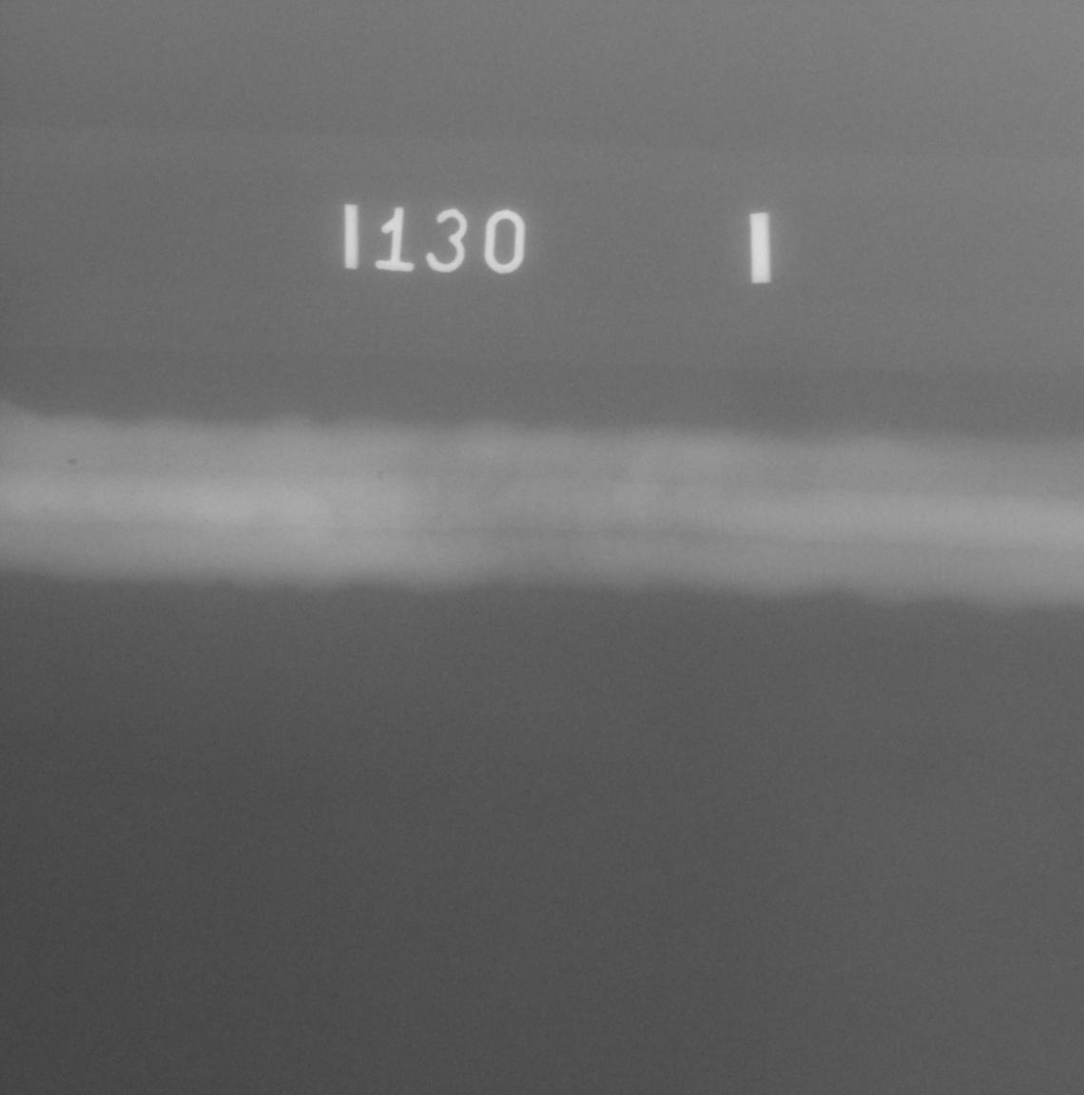Pore/Porosity: (376, 471, 384, 480), (69, 459, 78, 466), (42, 509, 46, 513), (438, 514, 442, 518), (259, 527, 263, 531), (212, 477, 216, 480), (166, 464, 169, 467)
